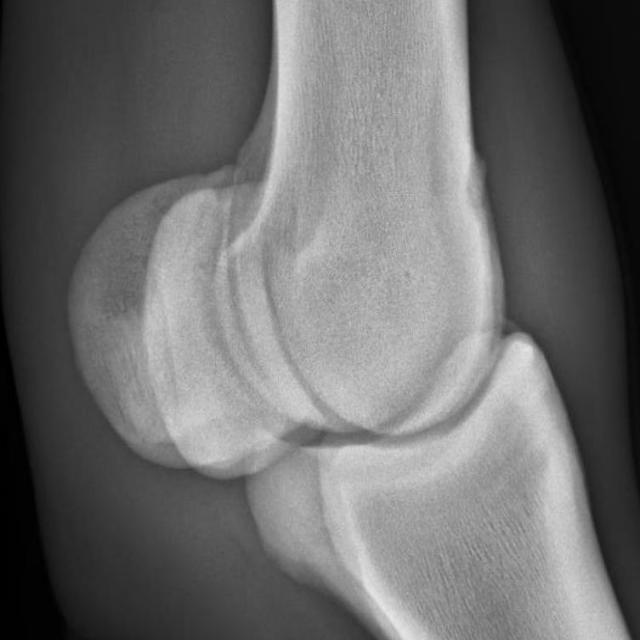bone remodeling: (513, 317, 553, 371)
